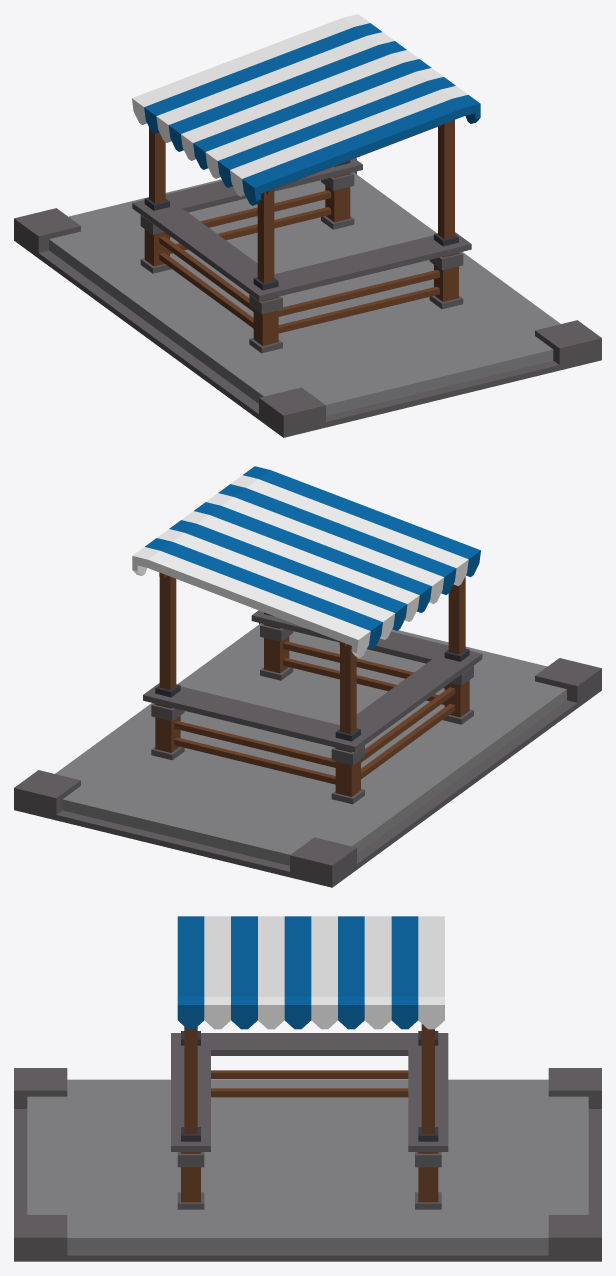
The model's file is Shop.fbx.
3 renders of one model, top to bottom at view 1: azimuth 30°, elevation 25°; view 2: azimuth 150°, elevation 25°; view 3: azimuth 270°, elevation 25°, orthographic. The views are drawn at different scales.
Parts seen in each view (by area): view 1: h; view 2: h; view 3: h.
Part boxes in pixels (left/top/right/bottom): h: left=14, top=14, right=601, bottom=437; h: left=14, top=466, right=601, bottom=887; h: left=14, top=916, right=601, bottom=1261.
Bounding box in the file's own units: 1500 × 958 × 2200.
